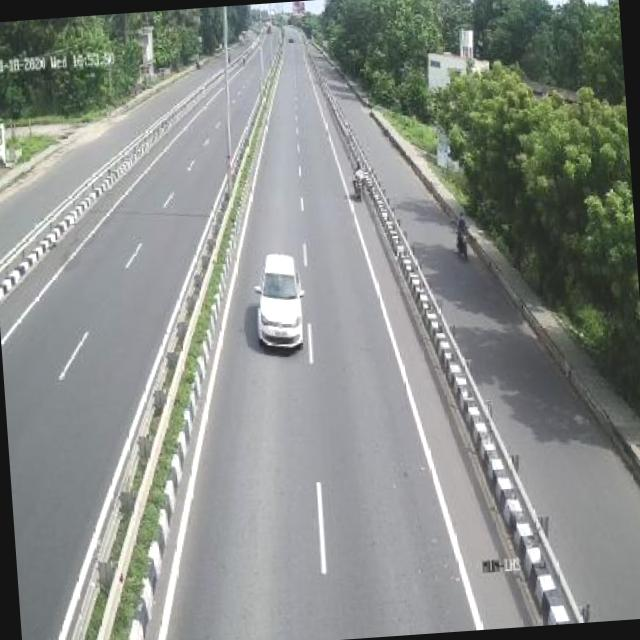car: (255, 246, 310, 356)
